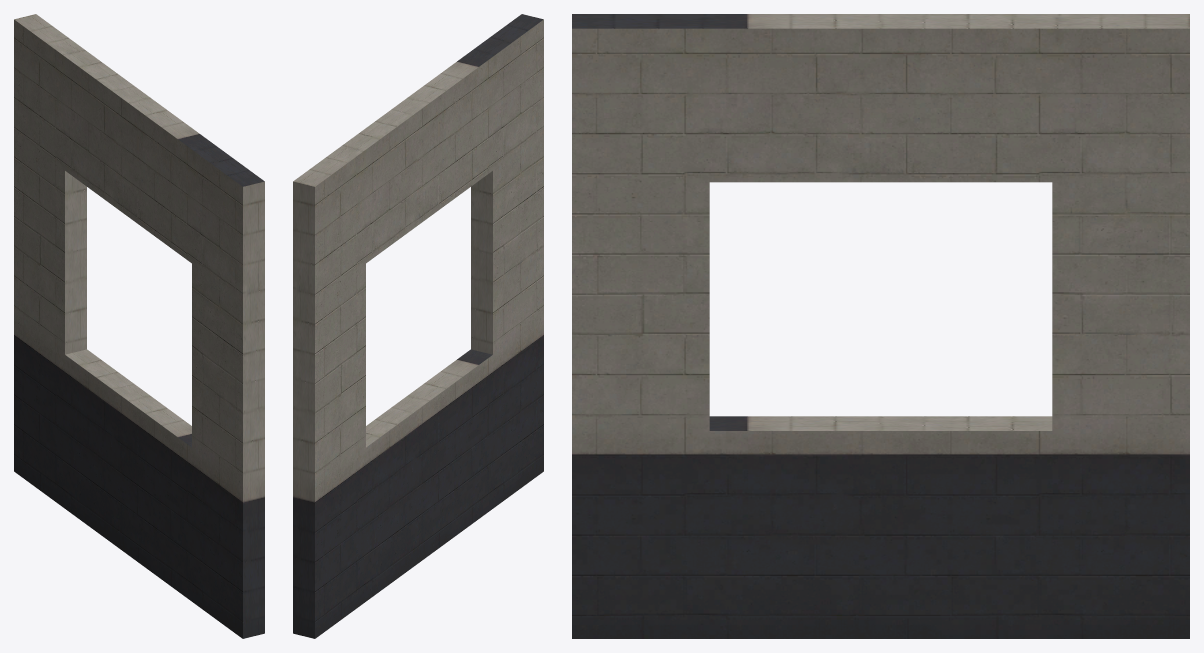
Rendered from soupwindwall019.obj.
3 views of the same model, side by side, from view 1: azimuth 30°, elevation 25°; view 2: azimuth 150°, elevation 25°; view 3: azimuth 270°, elevation 25° (orthographic). The views are drawn at different scales.
Parts seen in each view (by area): view 1: soupwindwall019_high_1; view 2: soupwindwall019_high_1; view 3: soupwindwall019_high_1.
Boxes of the visible parts, bbox=[...] form: soupwindwall019_high_1: bbox=[14, 14, 264, 638]; soupwindwall019_high_1: bbox=[293, 14, 543, 638]; soupwindwall019_high_1: bbox=[572, 14, 1189, 638].
Size of the model in its own units: 0.1504 by 2.95 by 2.7.
